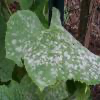Squash Powdery mildew leaf: (3, 6, 99, 94)
